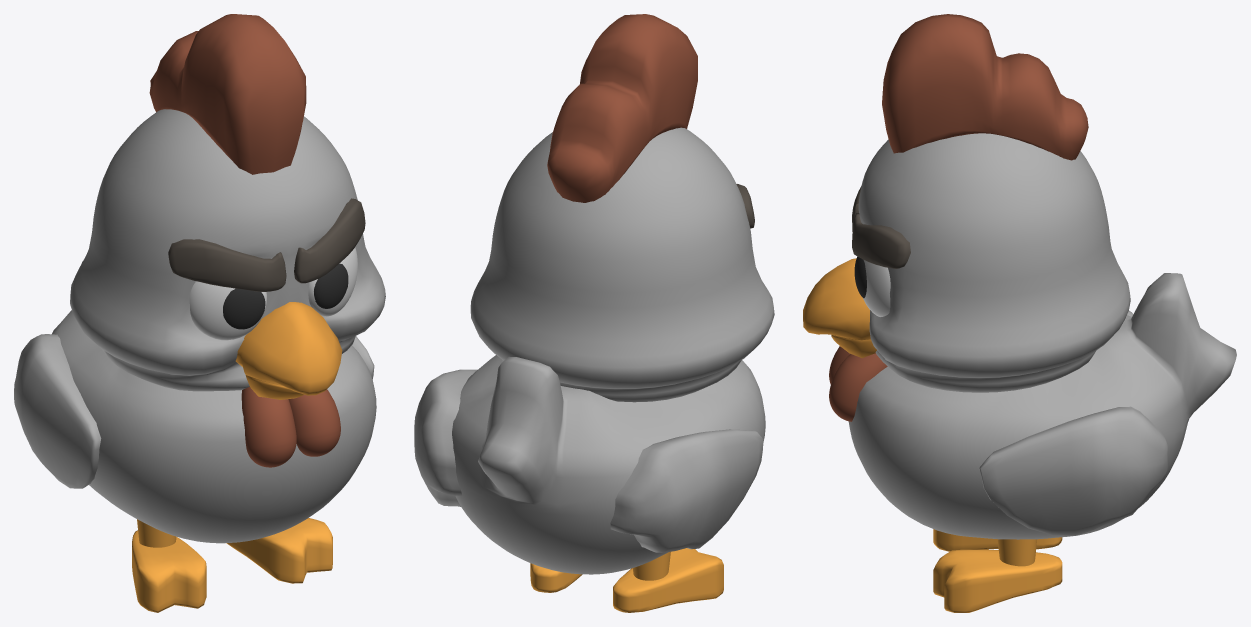
File: MAGGI.fbx
The picture shows the model from 3 angles, left to right: view 1: azimuth 30°, elevation 25°; view 2: azimuth 150°, elevation 25°; view 3: azimuth 270°, elevation 25°; orthographic projection. The views are drawn at different scales.
Visible parts, largest first — view 1: polySurface357, polySurface354, polySurface344, polySurface349, polySurface351, polySurface346, polySurface359, polySurface348, polySurface358, polySurface350, polySurface356, polySurface353 (+2 smaller); view 2: polySurface357, polySurface354, polySurface344, polySurface349, polySurface352, polySurface346, polySurface348, polySurface345; view 3: polySurface357, polySurface354, polySurface344, polySurface352, polySurface348, polySurface351, polySurface356, polySurface353, polySurface355, polySurface346, polySurface347.
Part boxes in pixels (x1,y1,x2,y2): polySurface357: [70, 109, 385, 391]; polySurface354: [52, 261, 376, 543]; polySurface344: [149, 14, 306, 174]; polySurface349: [14, 334, 101, 488]; polySurface351: [235, 302, 342, 399]; polySurface346: [132, 530, 206, 612]; polySurface359: [168, 239, 286, 291]; polySurface348: [226, 518, 332, 583]; polySurface358: [189, 281, 266, 340]; polySurface350: [241, 387, 296, 467]; polySurface356: [294, 198, 365, 283]; polySurface353: [288, 389, 340, 456]; polySurface357: [470, 127, 774, 402]; polySurface354: [452, 355, 765, 574]; polySurface344: [547, 14, 697, 202]; polySurface349: [610, 429, 763, 552]; polySurface352: [414, 369, 477, 506]; polySurface346: [613, 548, 723, 612]; polySurface348: [530, 563, 582, 592]; polySurface345: [633, 551, 670, 580]; polySurface357: [858, 133, 1130, 392]; polySurface354: [848, 273, 1236, 539]; polySurface344: [882, 14, 1088, 160]; polySurface352: [979, 406, 1167, 535]; polySurface348: [933, 549, 1062, 612]; polySurface351: [803, 258, 876, 358]; polySurface356: [852, 213, 910, 268]; polySurface353: [829, 353, 887, 421]; polySurface355: [854, 256, 890, 316]; polySurface346: [933, 529, 1062, 551]; polySurface347: [997, 539, 1036, 566].
Size of the model in its own units: 2.77 by 4.94 by 3.51.
